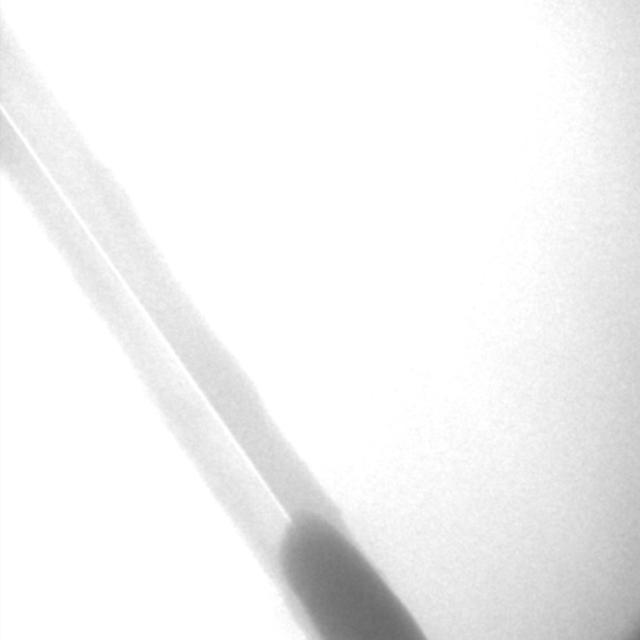broken arc: (1, 107, 293, 524)
